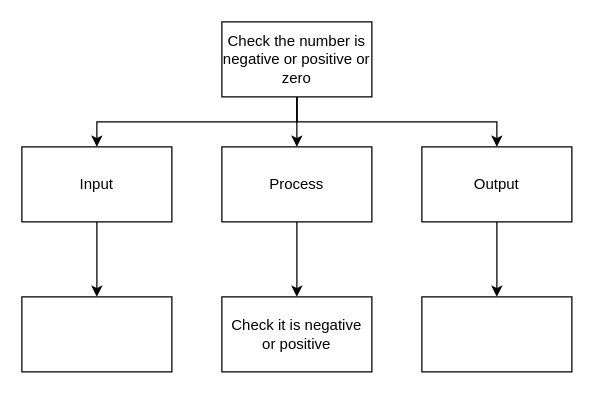
The diagram is 594 pixels wide and 394 high, and some of its shapes have lost their labels. Here are the shapes that lost their labels. From the top down, the box of each, then its label:
(21, 296, 172, 372): Get an integer from the user
(421, 296, 572, 372): Show message tell the user it is positive or negative or zero
